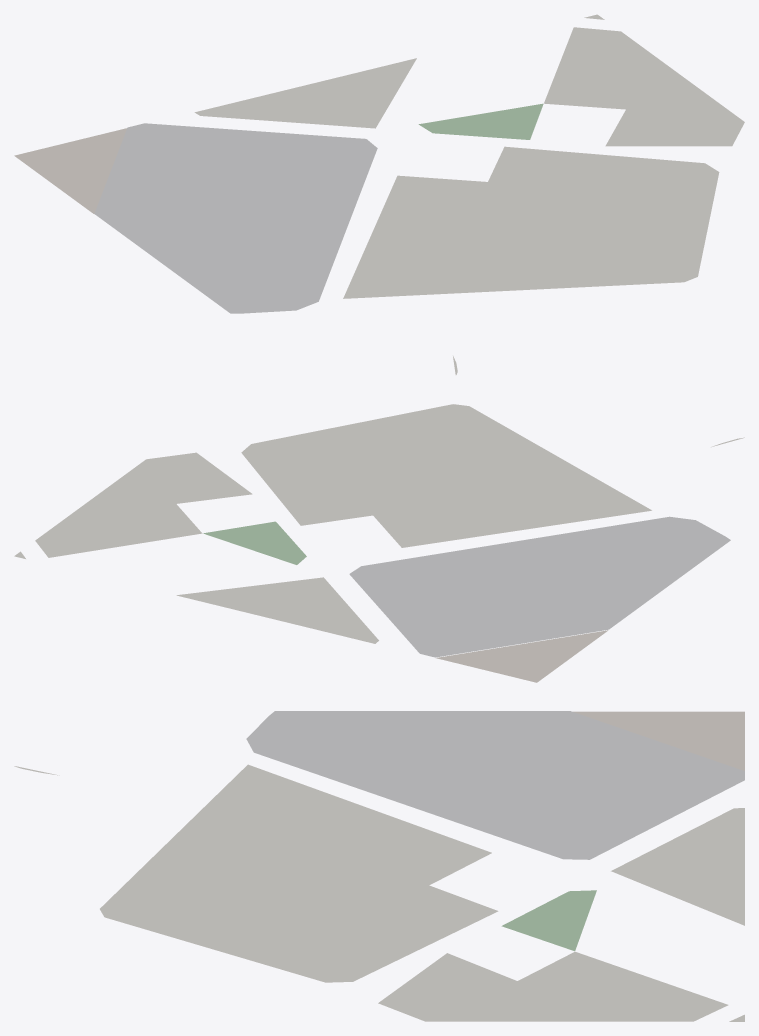
Rendered from 103_116_mid.glb.
The picture shows the model from 3 angles, top to bottom: view 1: azimuth 30°, elevation 25°; view 2: azimuth 150°, elevation 25°; view 3: azimuth 270°, elevation 25°; orthographic projection. The views are drawn at different scales.
Bounding box in the file's own units: 500 × 1.98 × 500.
